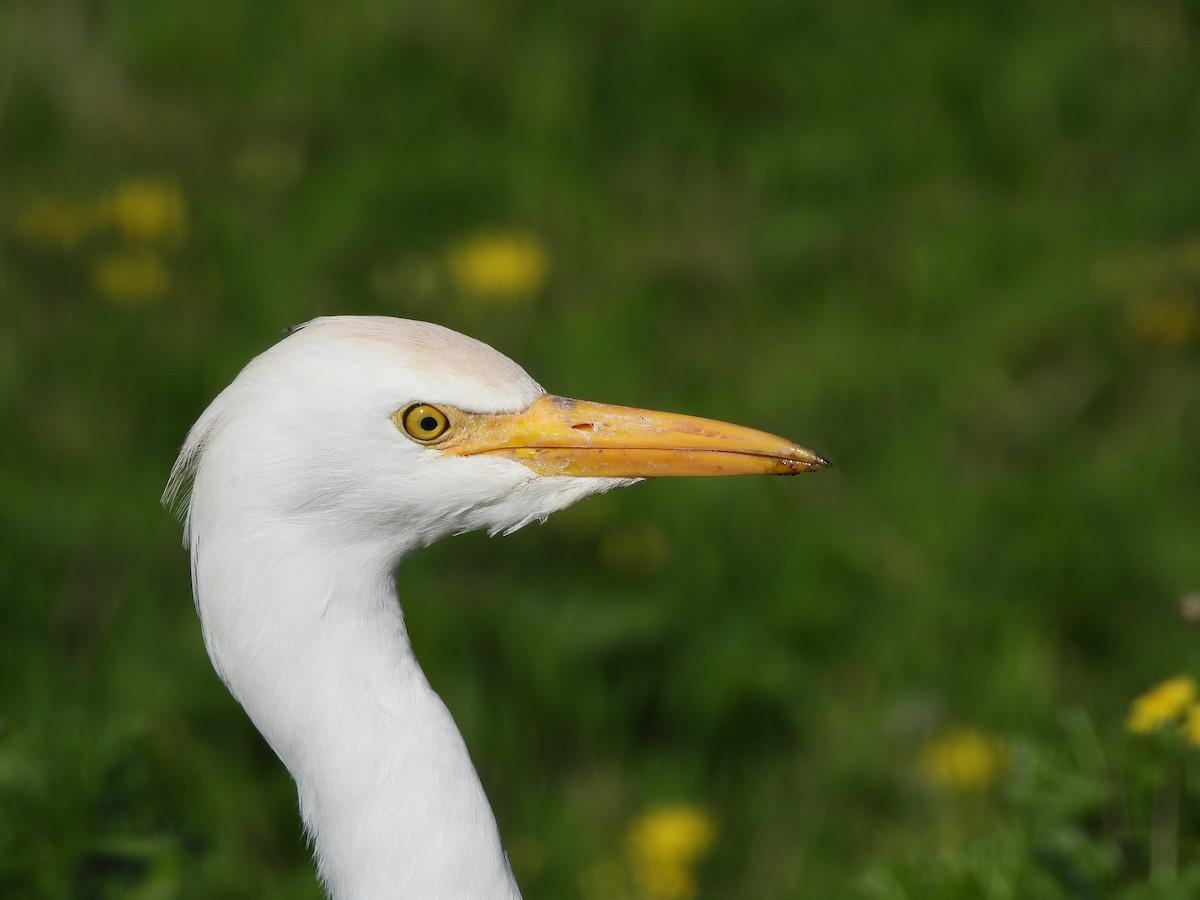egret: (185, 274, 839, 900)
